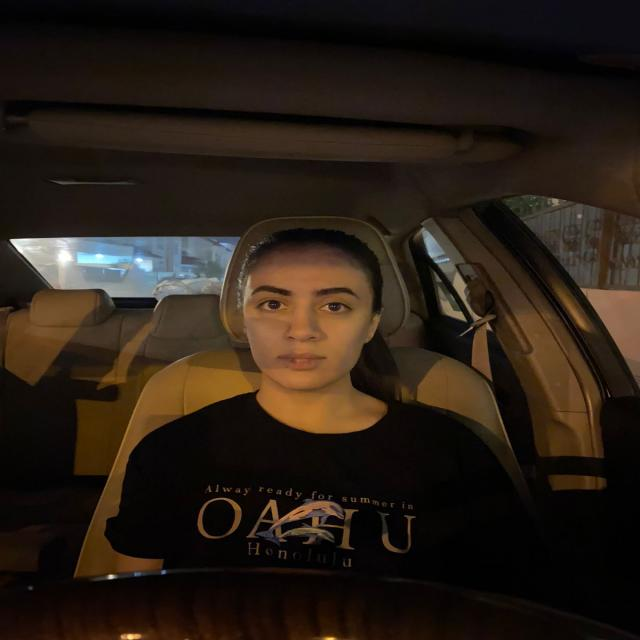person: (224, 222, 390, 394)
